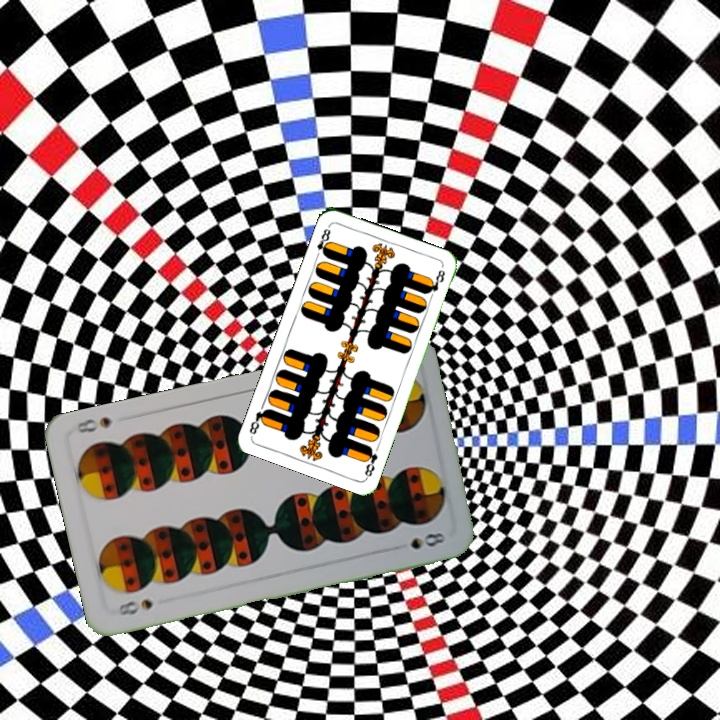E8: (312, 222, 333, 261), (360, 442, 380, 480)
S8: (114, 595, 156, 618)
